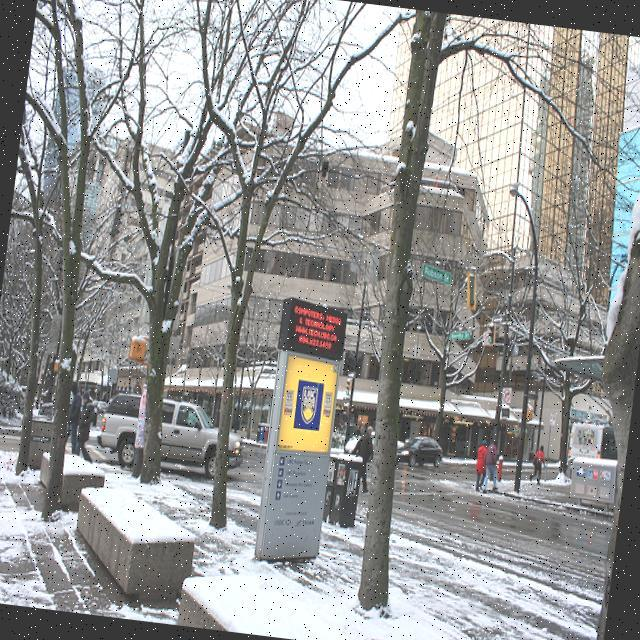fire_hydrant: (494, 454, 503, 480)
